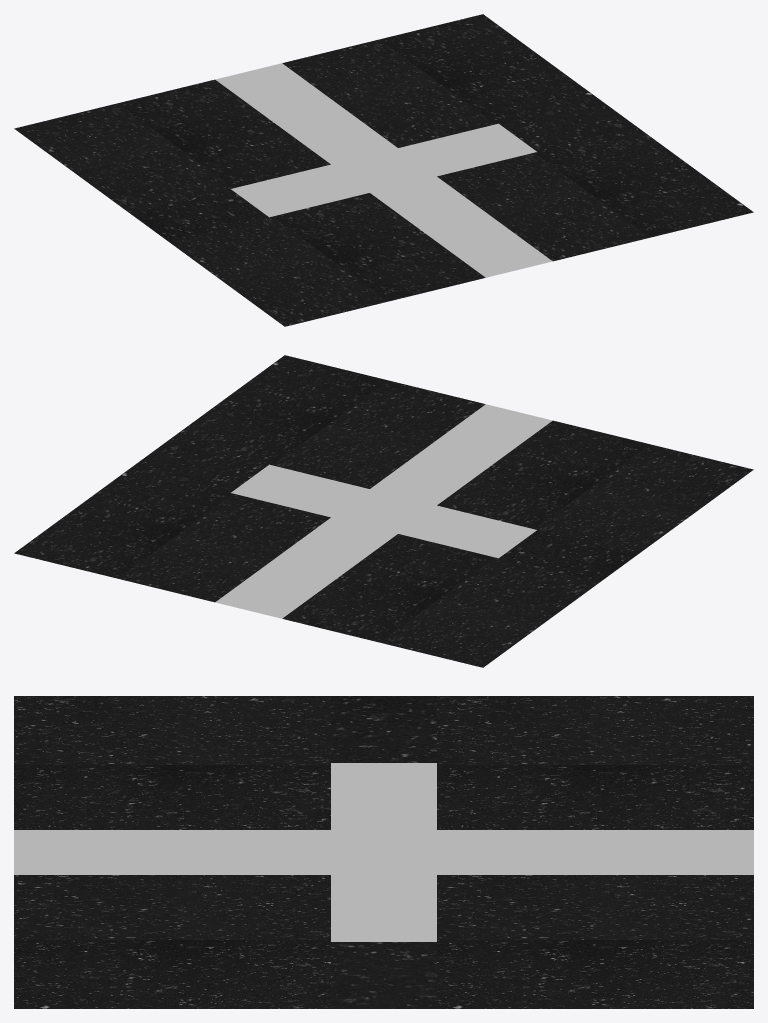
File: hub floor.fbx
3 renders of one model, top to bottom at view 1: azimuth 30°, elevation 25°; view 2: azimuth 150°, elevation 25°; view 3: azimuth 270°, elevation 25°, orthographic. The views are drawn at different scales.
Visible parts, largest first — view 1: Plane.001; view 2: Plane.001; view 3: Plane.001.
Part boxes in pixels (x1,y1,x2,y2): Plane.001: (14,14,753,326); Plane.001: (14,355,753,667); Plane.001: (14,696,753,1008).
Size of the model in its own units: 6336 by 0.00103 by 6336.
